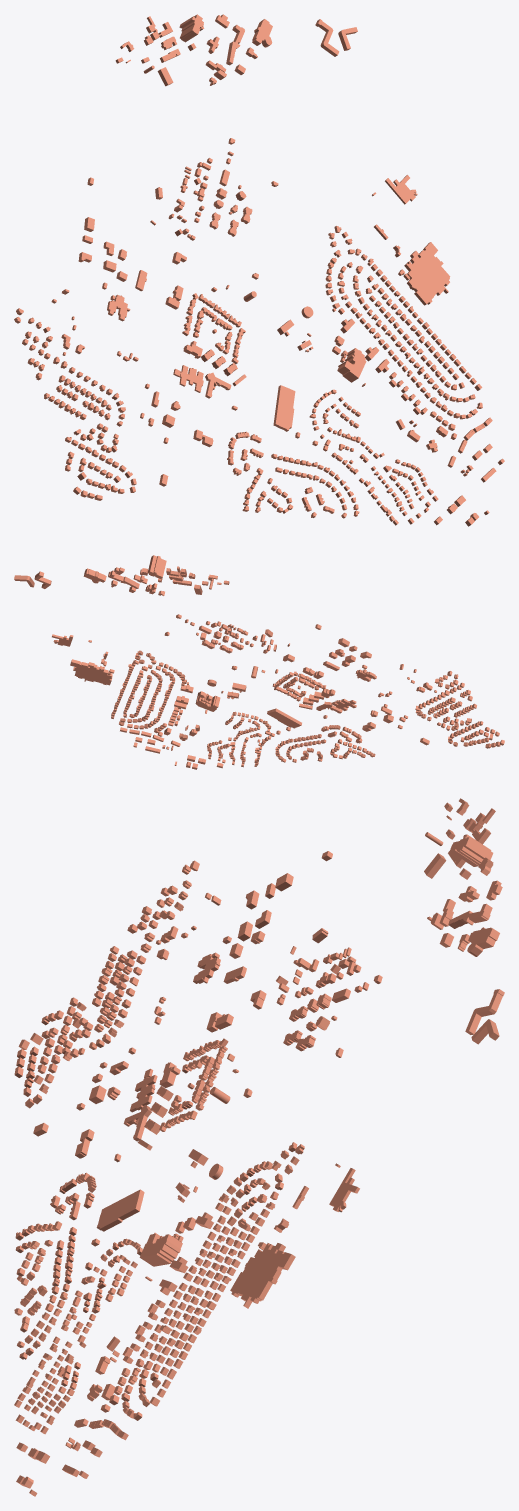
3 views of the same model, one above another, from view 1: azimuth 30°, elevation 25°; view 2: azimuth 150°, elevation 25°; view 3: azimuth 270°, elevation 25° (orthographic). The views are drawn at different scales.
Visible parts, largest first — view 1: mesh; view 2: mesh; view 3: mesh.
Part boxes in pixels (<box>): mesh: <box>14,14,504,526</box>; mesh: <box>14,555,504,769</box>; mesh: <box>14,798,504,1496</box>.
Size of the model in its own units: 1747 by 1517 by 1169.
